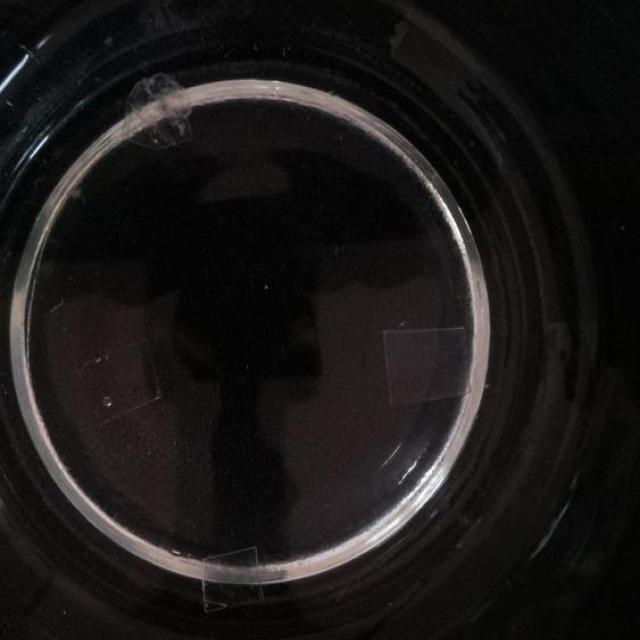fiber: (381, 319, 480, 409), (75, 340, 166, 430), (117, 61, 198, 157), (201, 542, 267, 612)
